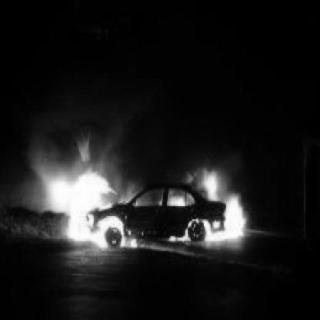Fire: (31, 139, 277, 267)
